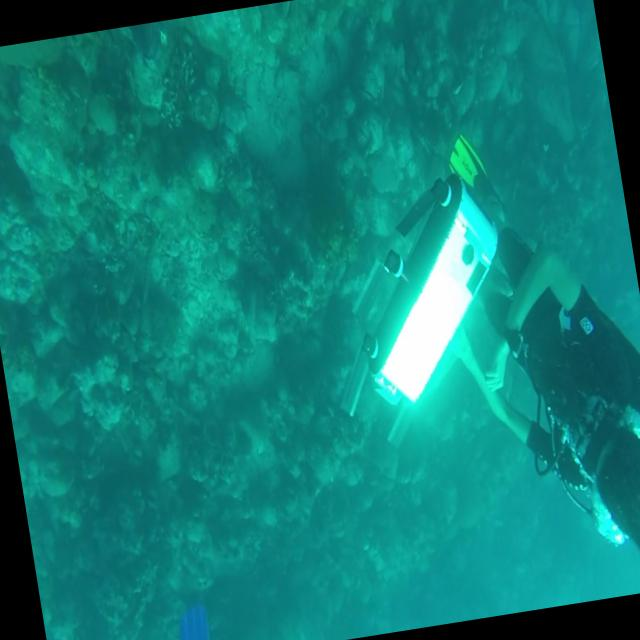human: (415, 110, 640, 599)
